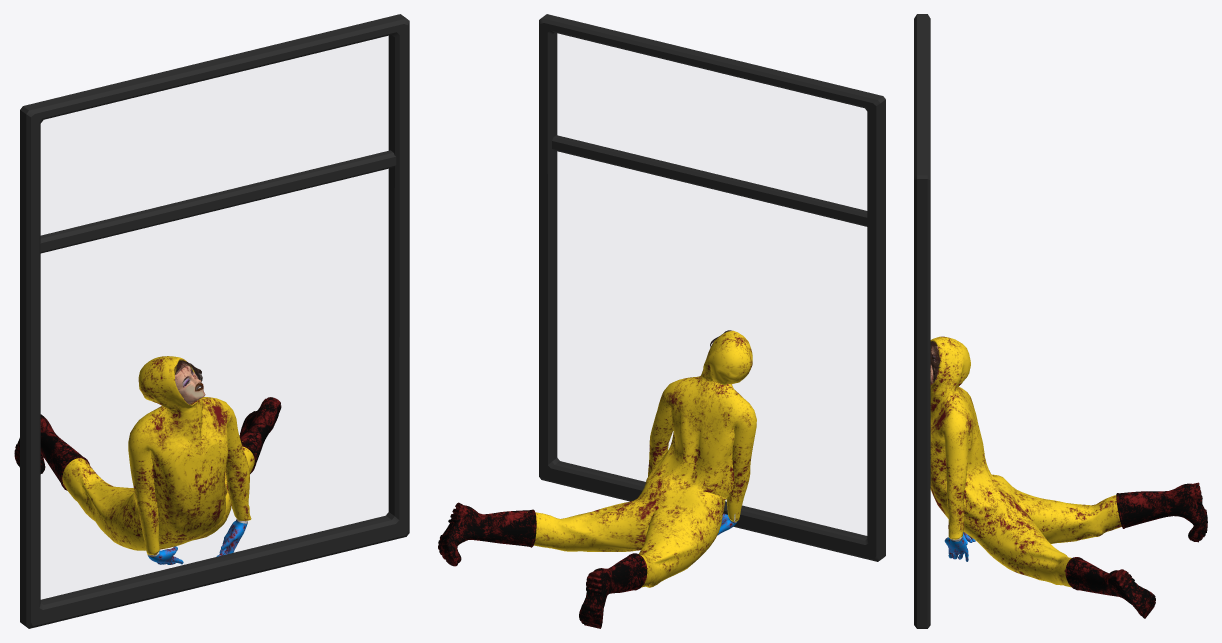
The model's file is dead_hazmat_female.glb.
3 renders of one model, left to right at view 1: azimuth 30°, elevation 25°; view 2: azimuth 150°, elevation 25°; view 3: azimuth 270°, elevation 25°, orthographic. The views are drawn at different scales.
Visible parts, largest first — view 1: PlaceHolder_Wall, Dead_Hazmat_Female; view 2: PlaceHolder_Wall, Dead_Hazmat_Female; view 3: Dead_Hazmat_Female, PlaceHolder_Wall.
Part boxes in pixels (box(x1,y1,x2,y2)): PlaceHolder_Wall: box(20, 14, 409, 628); Dead_Hazmat_Female: box(14, 356, 281, 564); PlaceHolder_Wall: box(539, 14, 885, 561); Dead_Hazmat_Female: box(438, 330, 756, 628); Dead_Hazmat_Female: box(930, 336, 1207, 618); PlaceHolder_Wall: box(914, 14, 930, 628).
Bounding box in the file's own units: 1.55 × 2 × 1.17.
Materials: 3 (1 with a texture image).
